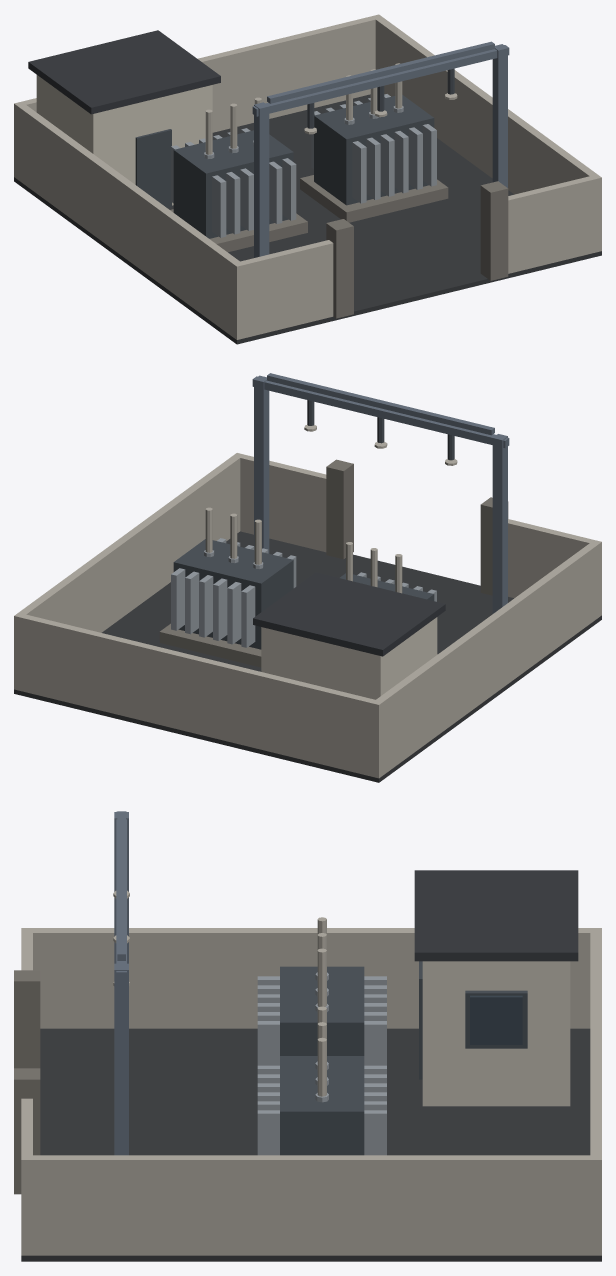
Rendered from service_substation.glb.
The picture shows the model from 3 angles, top to bottom: view 1: azimuth 30°, elevation 25°; view 2: azimuth 150°, elevation 25°; view 3: azimuth 270°, elevation 25°; orthographic projection. The views are drawn at different scales.
Visible parts, largest first — view 1: service_substation; view 2: service_substation; view 3: service_substation.
Part boxes in pixels (x1,y1,x2,y2): service_substation: (14,14,601,344); service_substation: (14,373,601,782); service_substation: (14,811,601,1261).
Size of the model in its own units: 10.4 by 5.49 by 11.14.
2 materials, 1 textured.
